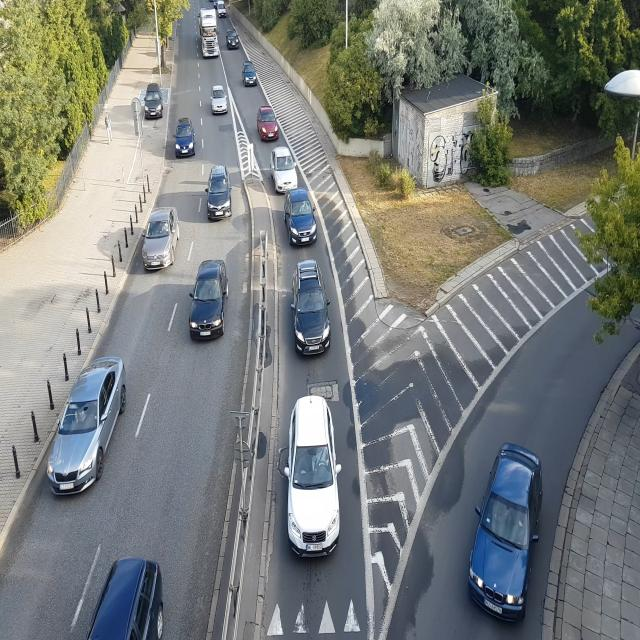car: (466, 421, 546, 619), (284, 391, 347, 569), (45, 359, 126, 496), (84, 558, 167, 640), (293, 263, 332, 356), (188, 258, 227, 342), (141, 207, 180, 270), (285, 188, 318, 247), (206, 166, 234, 221), (272, 147, 300, 196), (175, 117, 197, 158), (258, 107, 282, 142), (144, 85, 164, 119), (212, 85, 230, 115), (241, 68, 258, 86), (227, 30, 240, 48), (218, 0, 228, 19)
truck: (196, 8, 220, 58)
